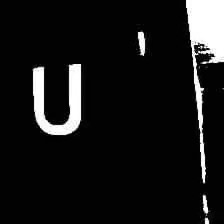LTR_U: (26, 59, 89, 141)
